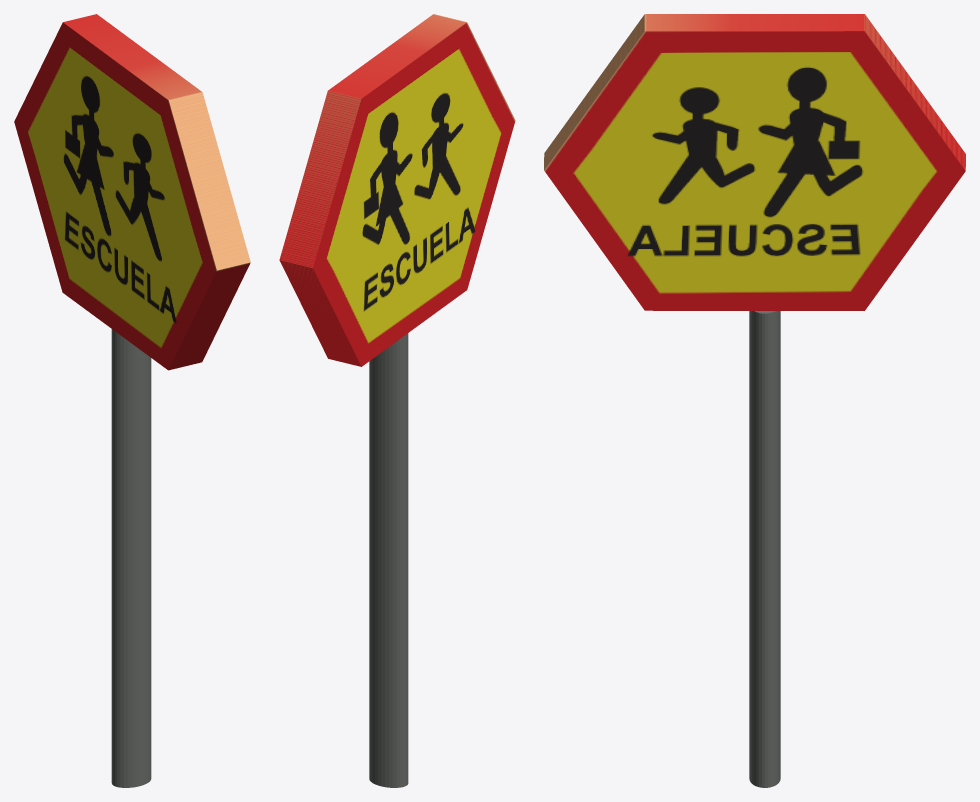
File: Rotulo_Escuela.glb
3 views of the same model, side by side, from view 1: azimuth 30°, elevation 25°; view 2: azimuth 150°, elevation 25°; view 3: azimuth 270°, elevation 25° (orthographic). The views are drawn at different scales.
Visible parts, largest first — view 1: Plane.001, Cylinder.001; view 2: Plane.001, Cylinder.001; view 3: Plane.001, Cylinder.001.
Part boxes in pixels (x1,y1,x2,y2): Plane.001: (14, 14, 250, 370); Cylinder.001: (111, 329, 151, 787); Plane.001: (279, 14, 515, 366); Cylinder.001: (369, 333, 408, 787); Plane.001: (544, 14, 965, 310); Cylinder.001: (749, 311, 780, 787).
Bounding box in the file's own units: 0.2814 × 4.96 × 2.51.
Materials: 2 (1 with a texture image).
